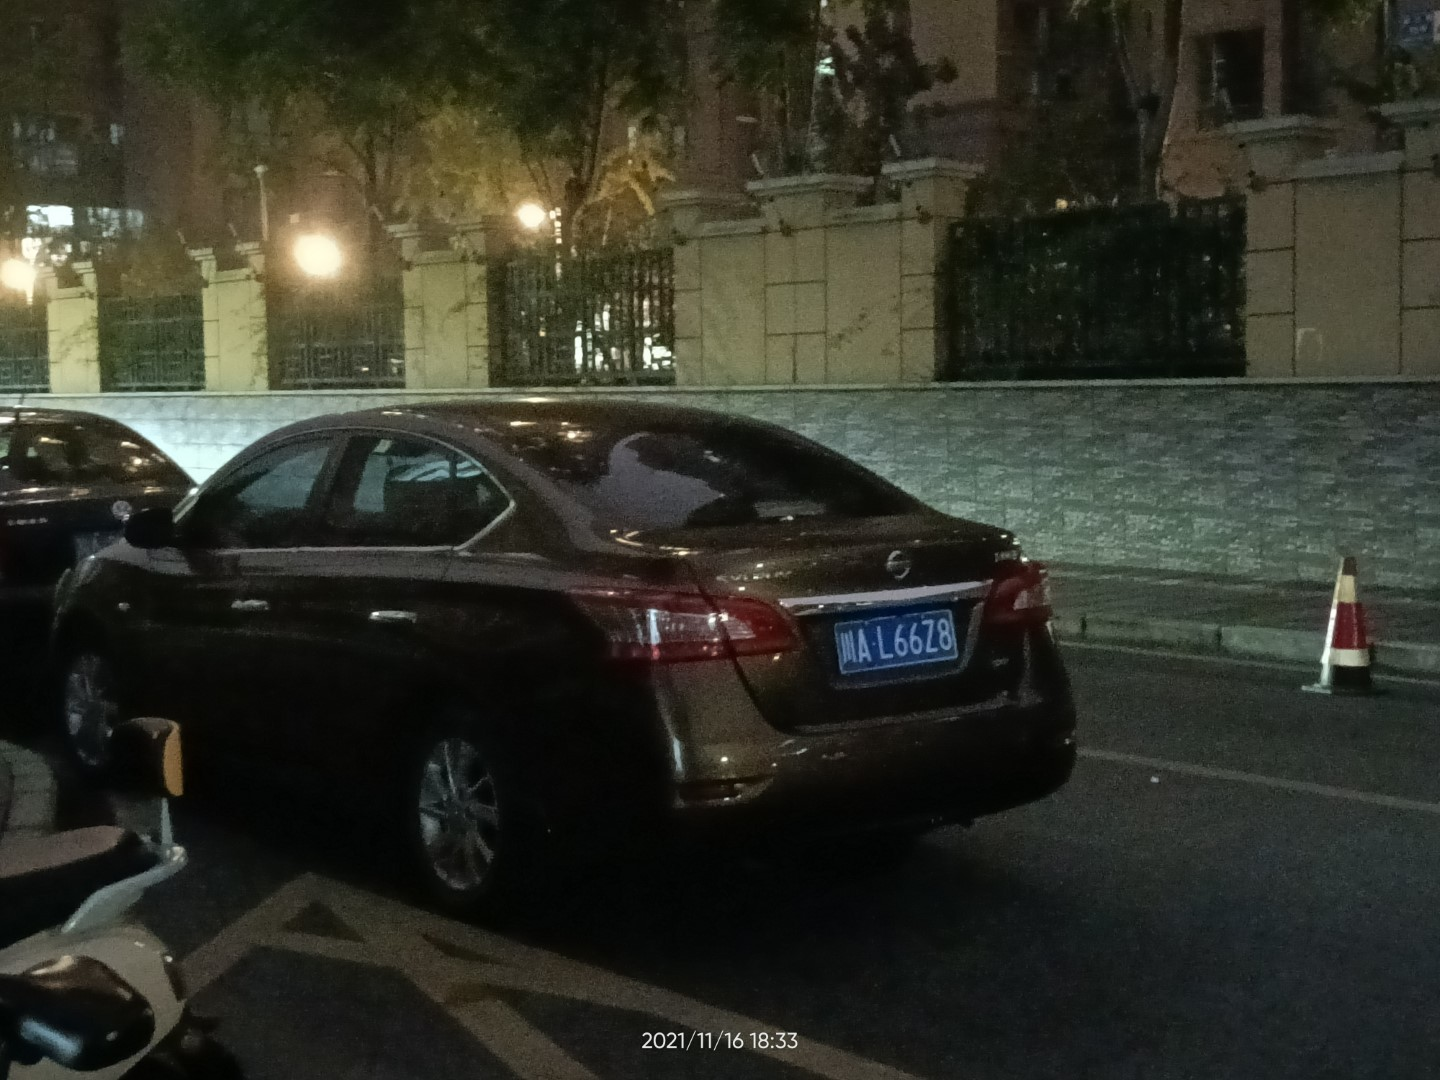plate: (833, 610, 957, 673)
